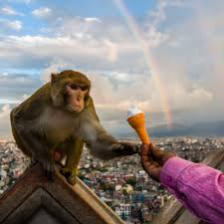monkey: (8, 68, 147, 186)
